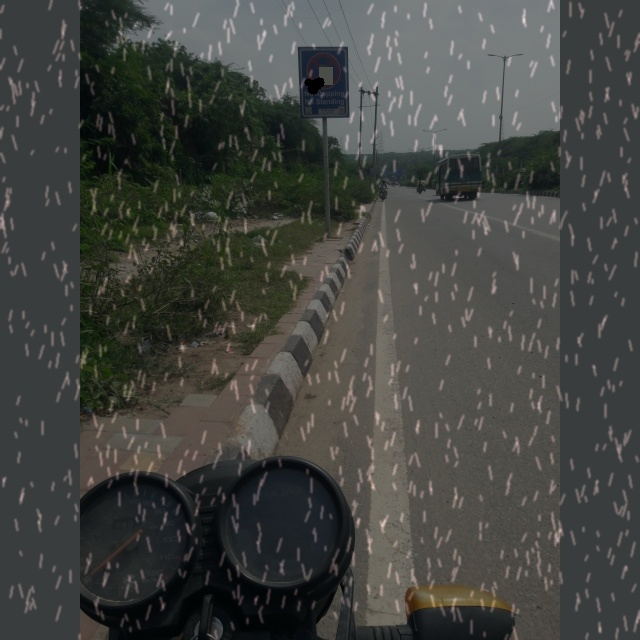No_Stopping_or_Standing: (300, 46, 346, 95)
